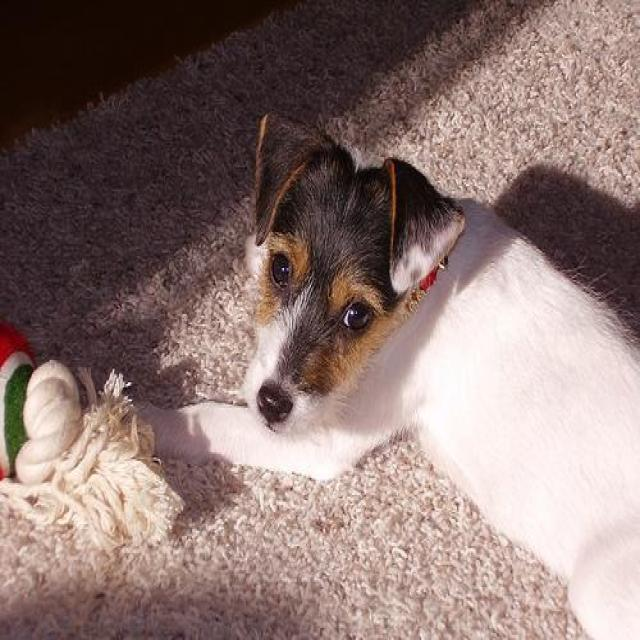toy_terrier: (131, 110, 638, 638)
